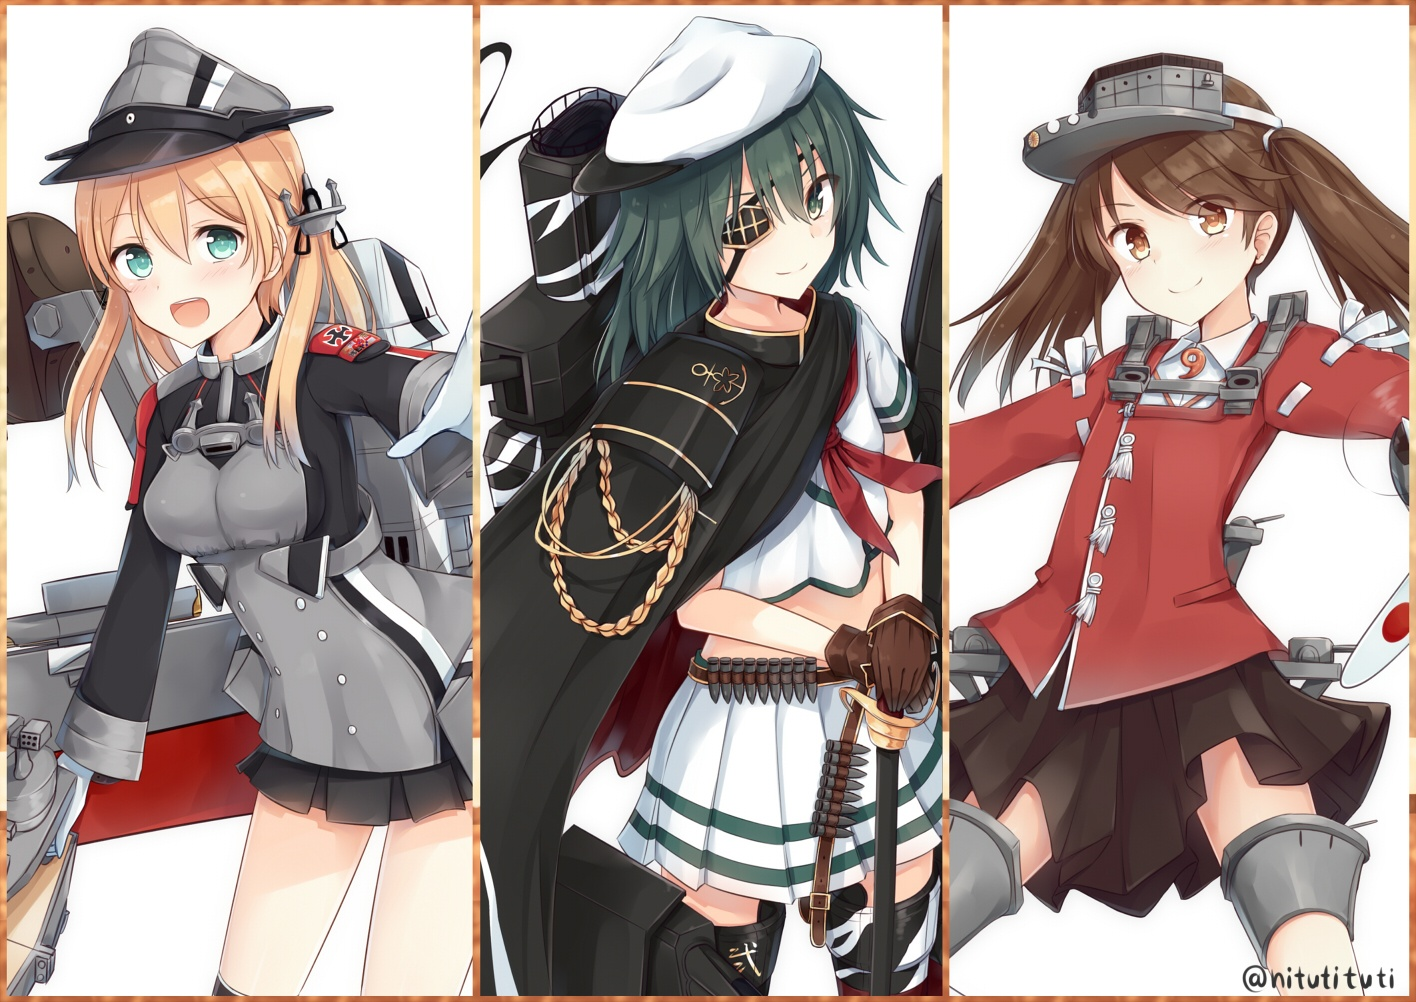纸片人正脸: (1037, 51, 1329, 340), (67, 100, 316, 359), (649, 62, 888, 317)
